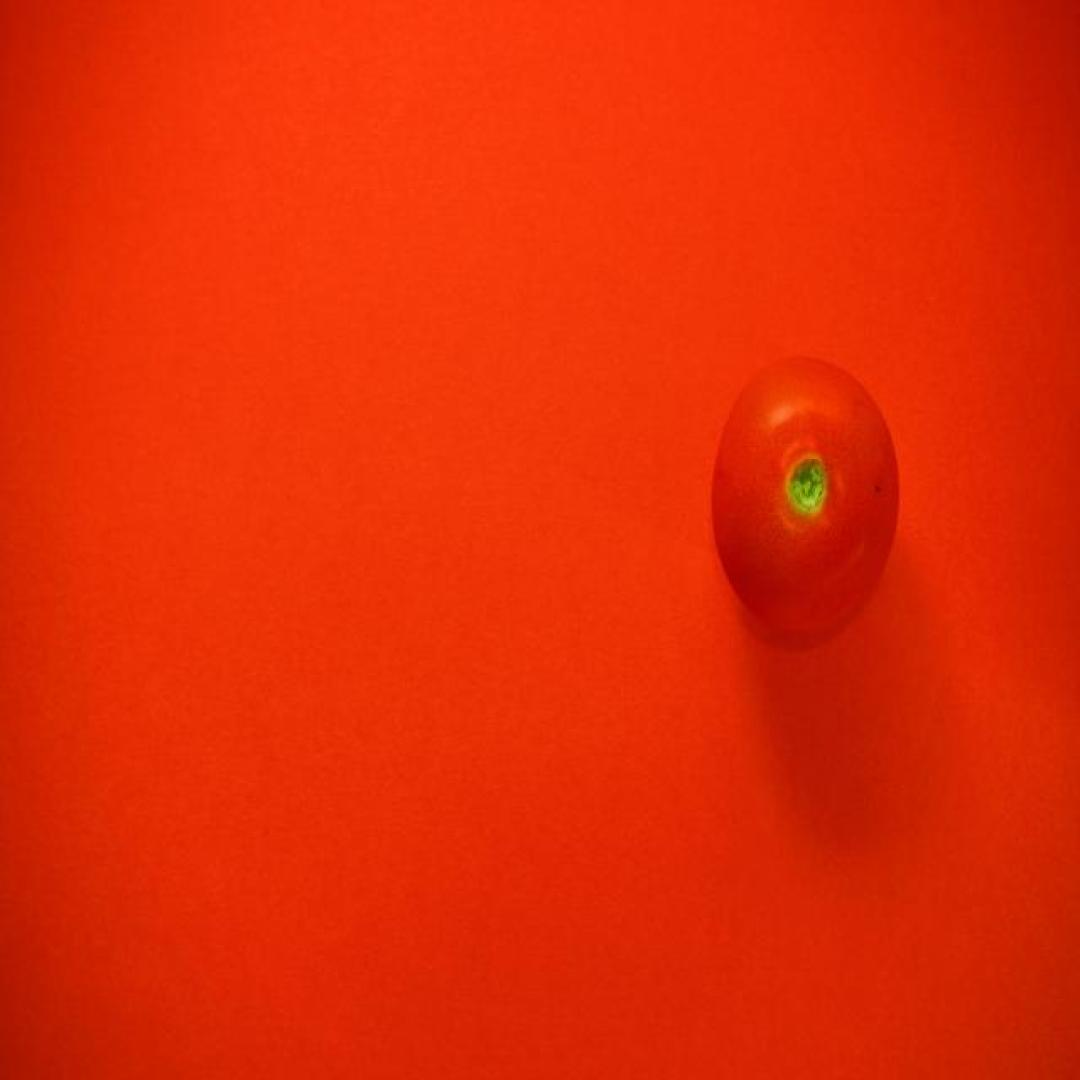matang: (710, 354, 900, 636)
